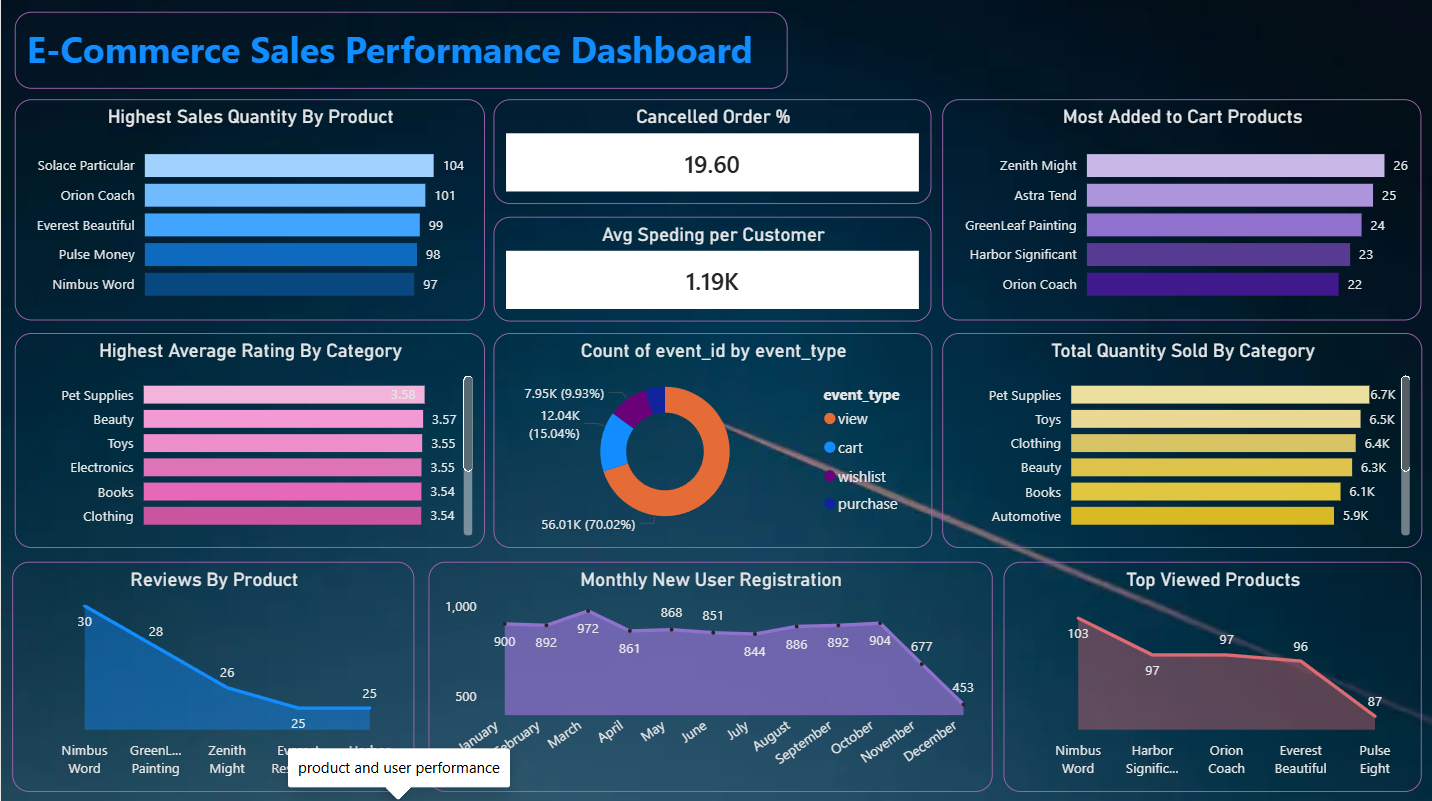

What the dashboard file says about the page in this screenshot:
{"tool":"powerbi","page":{"name":"product and user performance","canvas":[1280,720],"ordinal":1},"visuals":[{"type":"clusteredBarChart","title":"Highest Sales Quantity By Product","fields":{"Category":["Products.product_name"],"Y":["Order Items.Total Quantity Sold"]},"box":[12.3,90.4,419.9,197.6],"z":0},{"type":"areaChart","title":"Reviews By Product","fields":{"Category":["Products.product_name"],"Y":["CountNonNull(Reviews.review_id)"]},"box":[9.6,503.6,359.5,205.8],"z":1000},{"type":"cardVisual","title":"Cancelled Order %","fields":{"Data":["Events.Cancelled Orders %"]},"box":[440.5,90.6,391.1,93.3],"z":2000},{"type":"cardVisual","title":"Avg Speding per Customer","fields":{"Data":["Order Items.Average Customer Spending"]},"box":[440.5,194.9,391.1,93.3],"z":3000},{"type":"clusteredBarChart","title":"Total Quantity Sold By Category","fields":{"Y":["Sum(Order Items.quantity)"],"Category":["Products.category"]},"box":[840.8,299.3,428.8,192.1],"z":4000},{"type":"lineChart","title":"Monthly New User Registration","fields":{"Category":["Users.signup_date.Variation.Date Hierarchy.Month"],"Y":["Count(Users.user_id)"]},"box":[381.5,503.6,503.6,205.8],"z":5000},{"type":"areaChart","title":"Top Viewed Products","fields":{"Category":["Products.product_name"],"Y":["Events.Total Views"]},"box":[896.1,503.6,373.2,205.8],"z":6000},{"type":"clusteredBarChart","title":"Most Added to Cart Products","fields":{"Category":["Products.product_name"],"Y":["Events.Total Cart Adds"]},"box":[841.2,90.6,428.1,197.6],"z":7000},{"type":"donutChart","fields":{"Category":["Events.event_type"],"Y":["CountNonNull(Events.event_id)"]},"box":[440,299.3,391.9,192.1],"z":8000},{"type":"textbox","box":[12.3,12.3,690.2,68.6],"z":9000},{"type":"clusteredBarChart","title":"Highest Average Rating By Category","fields":{"Y":["Avg(Reviews.rating)"],"Category":["Products.category"]},"box":[12.3,299.3,419.9,192.1],"z":10000}]}

Visuals, with their boxes in screenshot pixels (x1, y1, x2, y2), scaled from the page's 1280x720 canvas onto the 1432x801 screenshot:
"Highest Sales Quantity By Product" clusteredBarChart: [left=14, top=101, right=484, bottom=320]
"Reviews By Product" areaChart: [left=11, top=560, right=413, bottom=789]
"Cancelled Order %" cardVisual: [left=493, top=101, right=930, bottom=205]
"Avg Speding per Customer" cardVisual: [left=493, top=217, right=930, bottom=321]
"Total Quantity Sold By Category" clusteredBarChart: [left=941, top=333, right=1420, bottom=547]
"Monthly New User Registration" lineChart: [left=427, top=560, right=990, bottom=789]
"Top Viewed Products" areaChart: [left=1003, top=560, right=1420, bottom=789]
"Most Added to Cart Products" clusteredBarChart: [left=941, top=101, right=1420, bottom=321]
donutChart - Events.event_type x CountNonNull(Events.event_id): [left=492, top=333, right=931, bottom=547]
textbox: [left=14, top=14, right=786, bottom=90]
"Highest Average Rating By Category" clusteredBarChart: [left=14, top=333, right=484, bottom=547]
